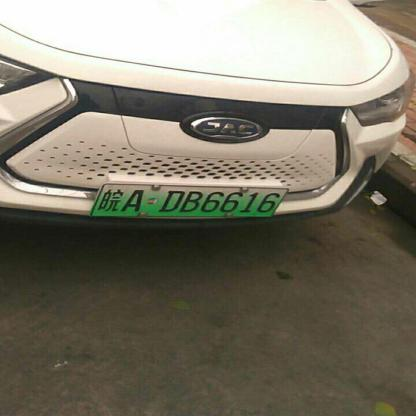lp: (91, 184, 286, 216)
